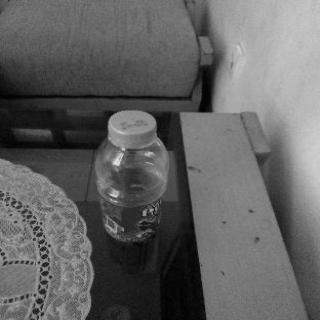plastic_bottles: (92, 106, 175, 248)
